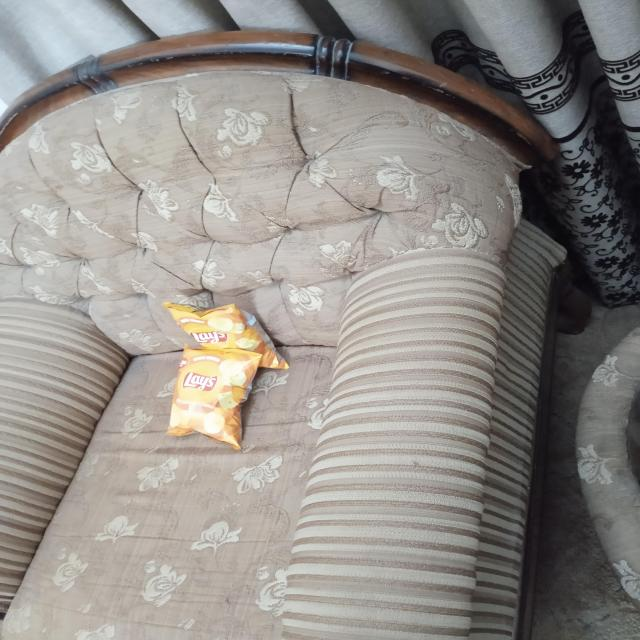Plastic: (175, 352, 262, 442), (164, 303, 275, 351)
